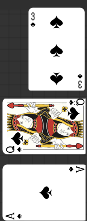3C: (29, 11, 36, 29), (76, 73, 83, 90)
AC: (67, 166, 84, 175)
